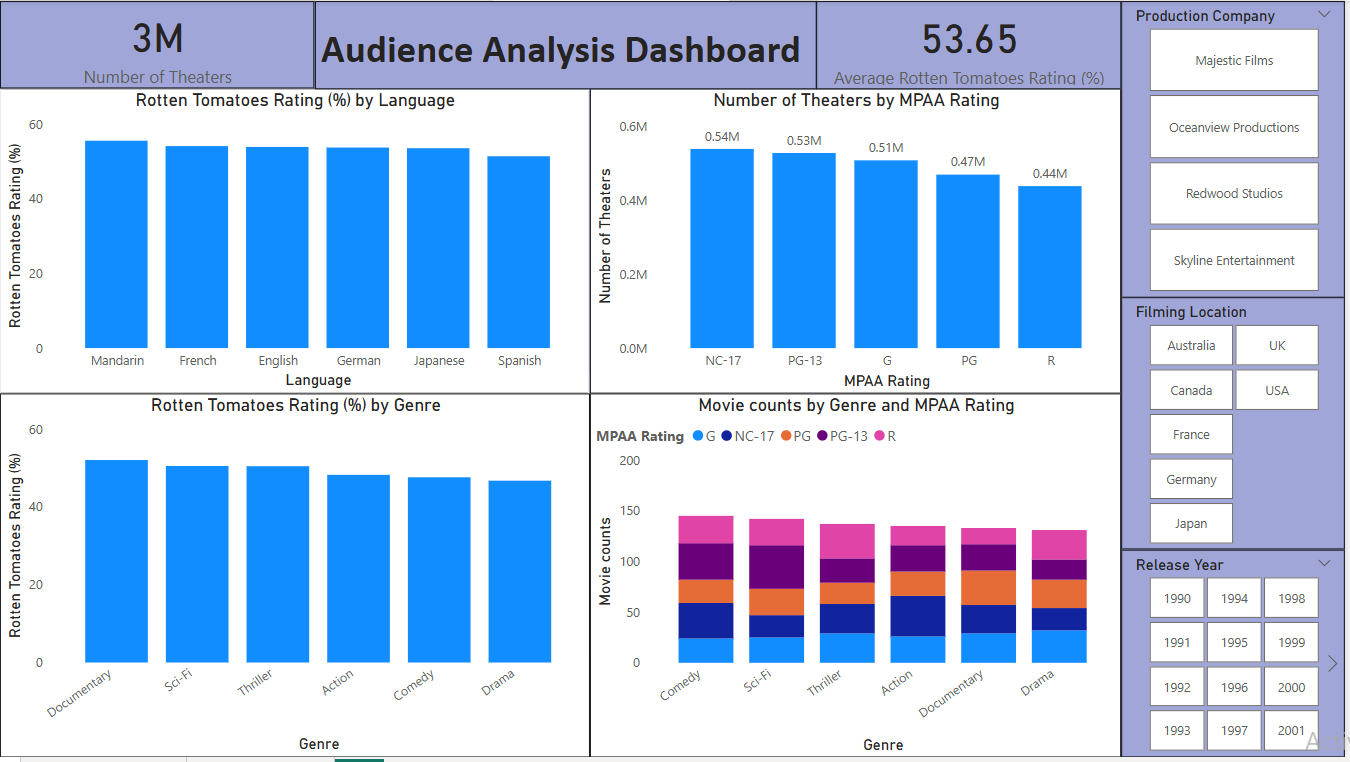

This screenshot's page, from the dashboard's own definition file:
{"tool":"powerbi","page":{"name":"Audience Ratings","canvas":[1280,720],"ordinal":0},"visuals":[{"type":"clusteredColumnChart","fields":{"Category":["merged sheet.Language"],"Y":["Avg(merged sheet.Sheet1 (2).Rotten Tomatoes Rating (%))"]},"box":[0,83.3,560.5,290.4],"z":0},{"type":"clusteredColumnChart","fields":{"Category":["merged sheet.Sheet1 (2).MPAA Rating"],"Y":["Sum(Sheet1 (2).Number of Theaters)"]},"box":[561.7,83.3,505.8,290.4],"z":1000},{"type":"clusteredColumnChart","fields":{"Y":["Avg(merged sheet.Sheet1 (2).Rotten Tomatoes Rating (%) (bins))"],"Category":["merged sheet.Genre"]},"box":[0,373.7,561.7,346.3],"z":2000},{"type":"columnChart","fields":{"Series":["merged sheet.Sheet1 (2).MPAA Rating"],"Category":["merged sheet.Genre"],"Y":["merged sheet.Movie counts"]},"box":[561.7,373.7,505.8,346.3],"z":3000},{"type":"slicer","fields":{"Values":["merged sheet.Filming Location"]},"box":[1067.5,282,213,240.4],"z":4000},{"type":"slicer","fields":{"Values":["merged sheet.Release Year"]},"box":[1067.5,522.4,213,197.6],"z":5000},{"type":"slicer","fields":{"Values":["merged sheet.Production Company"]},"box":[1067.3,0,212.9,282.1],"z":6000},{"type":"card","fields":{"Values":["Sum(Sheet1 (2).Number of Theaters)"]},"box":[0,0,299.1,83.2],"z":7000},{"type":"textbox","box":[299.4,0,477.8,83.8],"z":8000},{"type":"card","fields":{"Values":["Avg(merged sheet.Sheet1 (2).Rotten Tomatoes Rating (%))"]},"box":[777.2,0,290.1,83.8],"z":9000}]}

Visuals, with their boxes in screenshot pixels (x1, y1, x2, y2), scaled from the page's 1280x720 canvas onto the 1350x762 screenshot:
clusteredColumnChart - merged sheet.Language x Avg(merged sheet.Sheet1 (2).Rotten Tomatoes Rating (%)): [x1=0, y1=88, x2=591, y2=395]
clusteredColumnChart - merged sheet.Sheet1 (2).MPAA Rating x Sum(Sheet1 (2).Number of Theaters): [x1=592, y1=88, x2=1126, y2=395]
clusteredColumnChart - Avg(merged sheet.Sheet1 (2).Rotten Tomatoes Rating (%) (bins)) x merged sheet.Genre: [x1=0, y1=395, x2=592, y2=761]
columnChart - merged sheet.Sheet1 (2).MPAA Rating x merged sheet.Genre: [x1=592, y1=395, x2=1126, y2=761]
slicer - merged sheet.Filming Location: [x1=1126, y1=298, x2=1349, y2=553]
slicer - merged sheet.Release Year: [x1=1126, y1=553, x2=1349, y2=761]
slicer - merged sheet.Production Company: [x1=1126, y1=0, x2=1349, y2=299]
card - Sum(Sheet1 (2).Number of Theaters): [x1=0, y1=0, x2=315, y2=88]
textbox: [x1=316, y1=0, x2=820, y2=89]
card - Avg(merged sheet.Sheet1 (2).Rotten Tomatoes Rating (%)): [x1=820, y1=0, x2=1126, y2=89]
